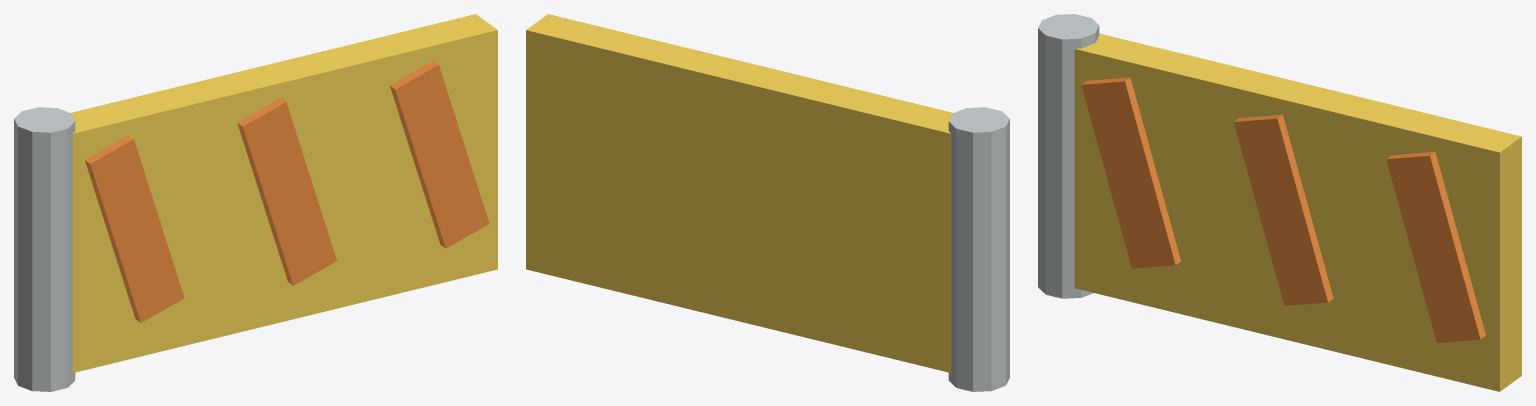
The model's file is CYCLE-010.glb.
3 renders of one model, left to right at view 1: azimuth 30°, elevation 25°; view 2: azimuth 150°, elevation 25°; view 3: azimuth 330°, elevation 25°, orthographic.
Parts seen in each view (by area): view 1: CYCLE-010; view 2: CYCLE-010; view 3: CYCLE-010.
Boxes of the visible parts, x1,y1,x2,y2 form: CYCLE-010: [14, 14, 497, 391]; CYCLE-010: [526, 14, 1009, 391]; CYCLE-010: [1038, 14, 1521, 391].
Size of the model in its own units: 1.23 by 0.65 by 0.1416.
